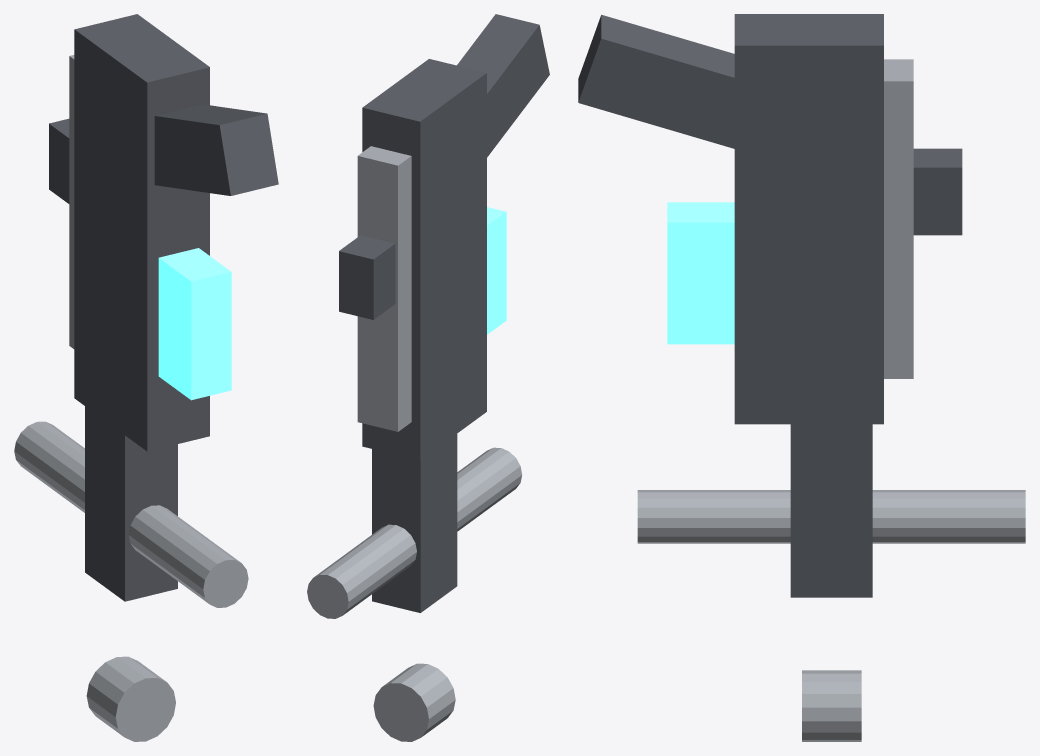
Rendered from blaster_rifle.glb.
3 views of the same model, side by side, from view 1: azimuth 30°, elevation 25°; view 2: azimuth 150°, elevation 25°; view 3: azimuth 270°, elevation 25° (orthographic). The views are drawn at different scales.
Parts seen in each view (by area): view 1: Receiver, Shroud, Barrel, EnergyCell, Grip, MuzzleTip, TopRail, ReflexSight; view 2: Receiver, TopRail, Shroud, Barrel, Grip, MuzzleTip, ReflexSight, EnergyCell; view 3: Receiver, Barrel, Shroud, Grip, EnergyCell, TopRail, ReflexSight, MuzzleTip.
Boxes of the visible parts, <box> form: Receiver: <box>74,14,209,451</box>; Shroud: <box>85,406,177,601</box>; Barrel: <box>14,421,248,607</box>; EnergyCell: <box>158,248,231,400</box>; Grip: <box>154,104,278,195</box>; MuzzleTip: <box>86,656,175,741</box>; TopRail: <box>69,55,74,348</box>; ReflexSight: <box>49,118,69,203</box>; Receiver: <box>362,59,486,460</box>; TopRail: <box>357,146,411,431</box>; Shroud: <box>372,434,457,612</box>; Barrel: <box>307,447,522,618</box>; Grip: <box>457,14,549,157</box>; MuzzleTip: <box>373,663,455,741</box>; ReflexSight: <box>339,235,395,319</box>; EnergyCell: <box>487,207,506,334</box>; Receiver: <box>734,14,883,424</box>; Barrel: <box>637,490,1025,543</box>; Shroud: <box>790,424,872,597</box>; Grip: <box>578,14,734,148</box>; EnergyCell: <box>667,202,734,344</box>; TopRail: <box>884,59,913,378</box>; ReflexSight: <box>913,148,962,235</box>; MuzzleTip: <box>802,670,861,741</box>.
Bounding box in the file's own units: 0.05 × 0.5263 × 0.2998.
